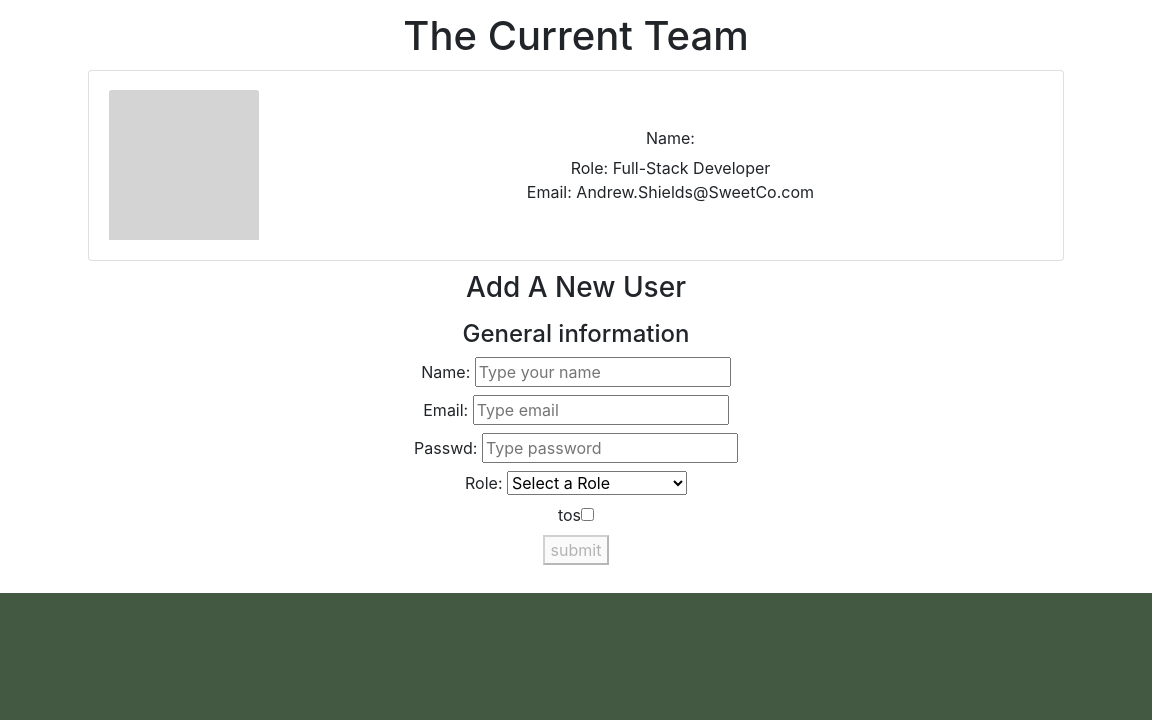
Test case: Form validation › validates name correctly
Expected: the text "Your name must be at least two characters long" is not shown
Type "a" into the field named "name" at (603, 372), box [475,357,731,387]
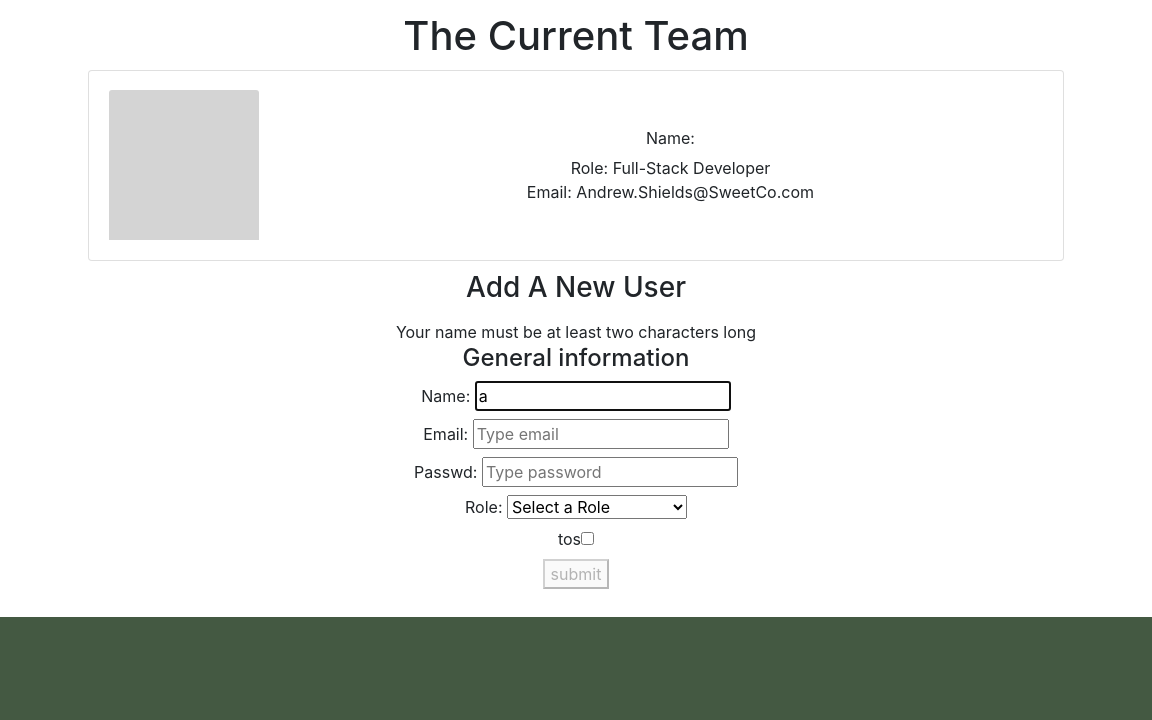
Now the text "Your name must be at least two characters long" is shown, box [396,322,756,342]
Type "b" into the field named "name" at (603, 396), box [475,381,731,411]
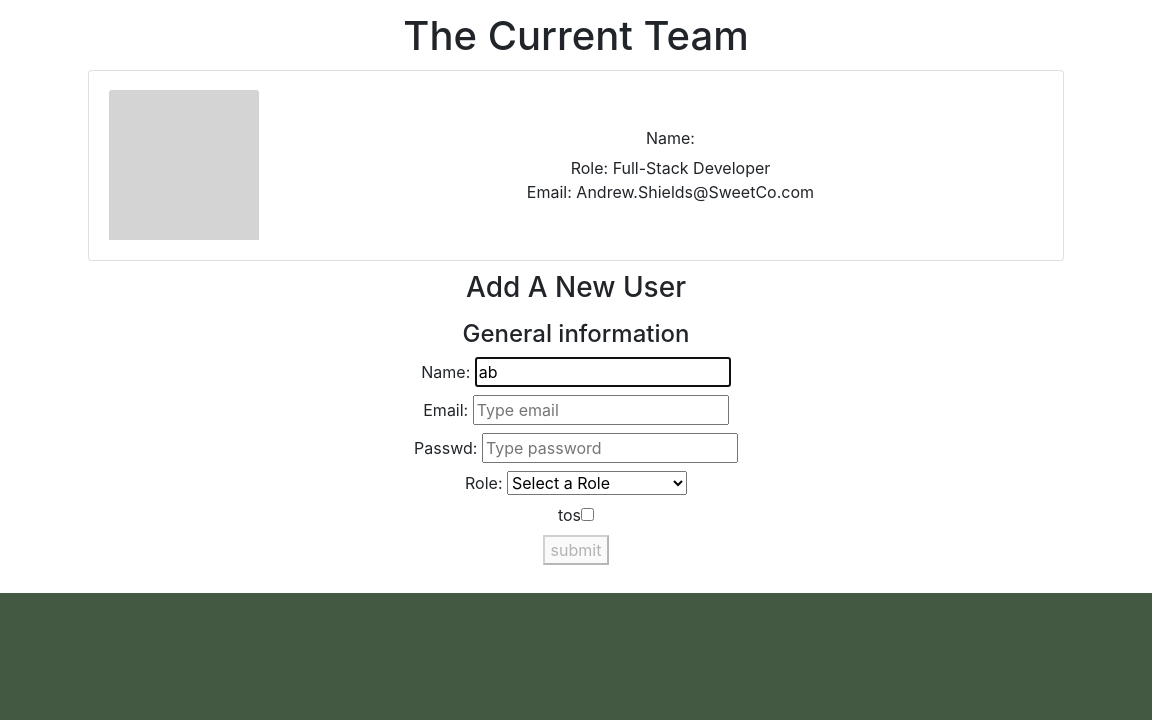
Now the text "Your name must be at least two characters long" is gone
